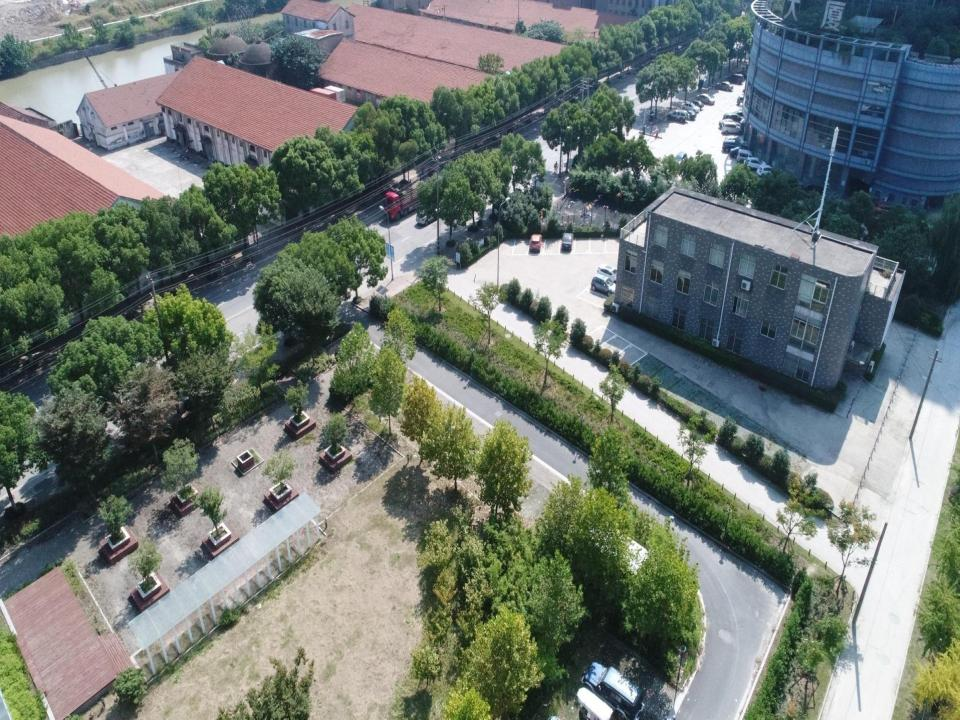car: (590, 272, 617, 296), (416, 205, 443, 225), (597, 263, 622, 284), (724, 135, 747, 150), (875, 202, 898, 215), (756, 164, 777, 178), (742, 157, 766, 169), (722, 140, 746, 152), (529, 231, 542, 252), (730, 146, 752, 158), (719, 118, 741, 130), (721, 122, 742, 134), (697, 93, 715, 107), (561, 231, 574, 250), (722, 112, 741, 124), (715, 80, 734, 92), (672, 152, 687, 167), (680, 102, 700, 113), (725, 73, 744, 84), (681, 108, 696, 120), (689, 99, 704, 109)
truck: (384, 180, 431, 220)
van: (736, 148, 755, 164), (667, 109, 688, 123)
